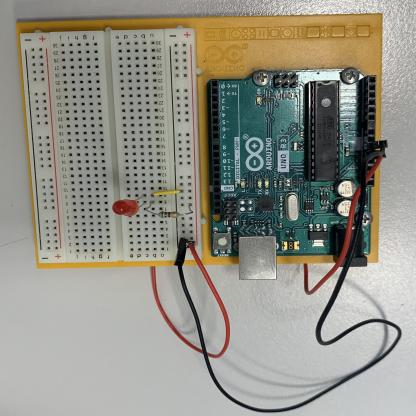5V: (215, 147, 388, 301), (134, 276, 245, 359), (187, 240, 215, 266), (159, 266, 193, 277)
ARDUINO: (208, 63, 375, 256)
Breadboard: (19, 24, 204, 265)
GND: (174, 143, 416, 416)
LED: (112, 199, 138, 216)
Resistor: (157, 211, 180, 218)
Short wire: (152, 190, 183, 196)
